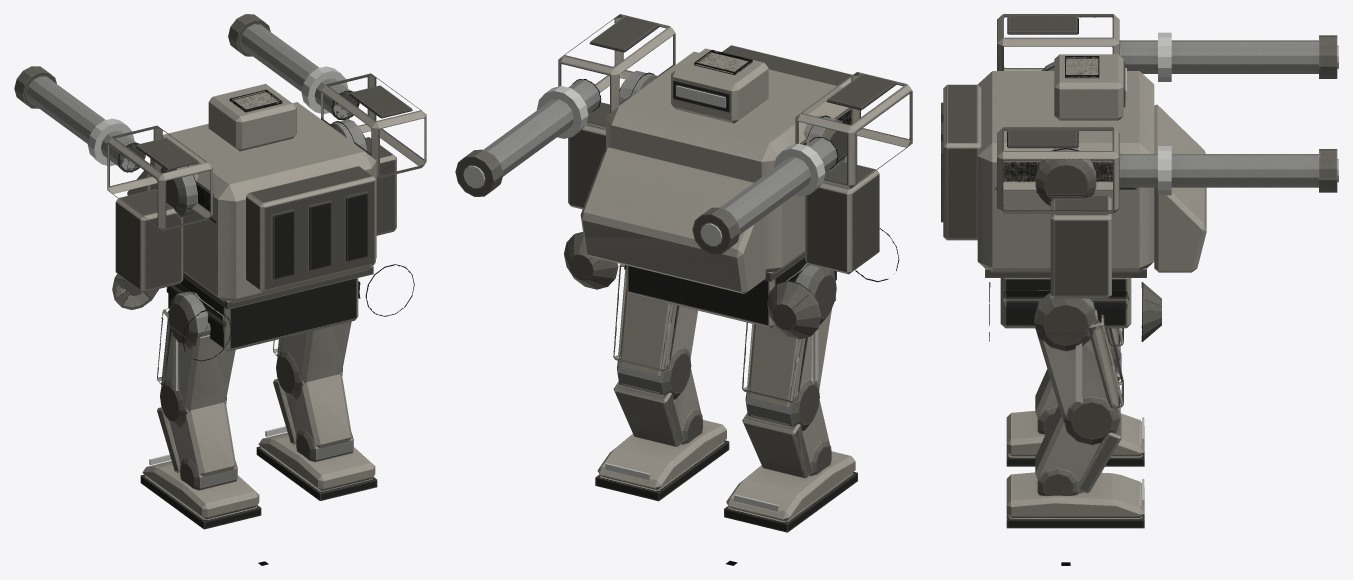
Rendered from ord_paragon.fbx.
3 renders of one model, left to right at view 1: azimuth 30°, elevation 25°; view 2: azimuth 150°, elevation 25°; view 3: azimuth 270°, elevation 25°, orthographic. The views are drawn at different scales.
Visible parts, largest first — view 1: torso_bar, base_bar, thighL_bar, shinL_bar, shinR_bar, footL_bar, footR_bar, thighR_bar, torso_glow_power_bar; view 2: torso_bar, base_bar, thighL_bar, thighR_bar, footR_bar, footL_bar, shinL_bar, shinR_bar, torso_glow_power_bar, torso_glow_weapon_bar, torso_glow_head_bar; view 3: torso_bar, thighR_bar, footR_bar, base_bar, shinR_bar, footL_bar, torso_glow_power_bar, shinL_bar.
Part boxes in pixels (x1,y1,x2,y2): torso_bar: [14, 14, 426, 309]; base_bar: [112, 264, 414, 361]; thighL_bar: [157, 291, 235, 427]; shinL_bar: [157, 402, 237, 490]; shinR_bar: [273, 374, 353, 461]; footL_bar: [140, 461, 261, 529]; footR_bar: [256, 432, 377, 500]; thighR_bar: [273, 321, 351, 399]; torso_glow_power_bar: [88, 66, 347, 166]; torso_bar: [455, 14, 912, 293]; base_bar: [564, 228, 899, 338]; thighL_bar: [742, 263, 836, 430]; thighR_bar: [613, 264, 697, 399]; footR_bar: [595, 420, 729, 501]; footL_bar: [724, 451, 857, 532]; shinL_bar: [742, 400, 831, 478]; shinR_bar: [613, 369, 702, 446]; torso_glow_power_bar: [537, 86, 825, 196]; torso_glow_weapon_bar: [463, 166, 721, 245]; torso_glow_head_bar: [676, 85, 725, 107]; torso_bar: [941, 14, 1337, 298]; thighR_bar: [1034, 290, 1123, 444]; footR_bar: [1006, 472, 1144, 528]; base_bar: [989, 278, 1161, 341]; shinR_bar: [1035, 406, 1121, 496]; footL_bar: [1006, 411, 1144, 466]; torso_glow_power_bar: [1158, 32, 1171, 195]; shinL_bar: [1035, 352, 1121, 434].
Size of the model in its own units: 748 by 1219 by 882.
2 materials, 2 textured.
